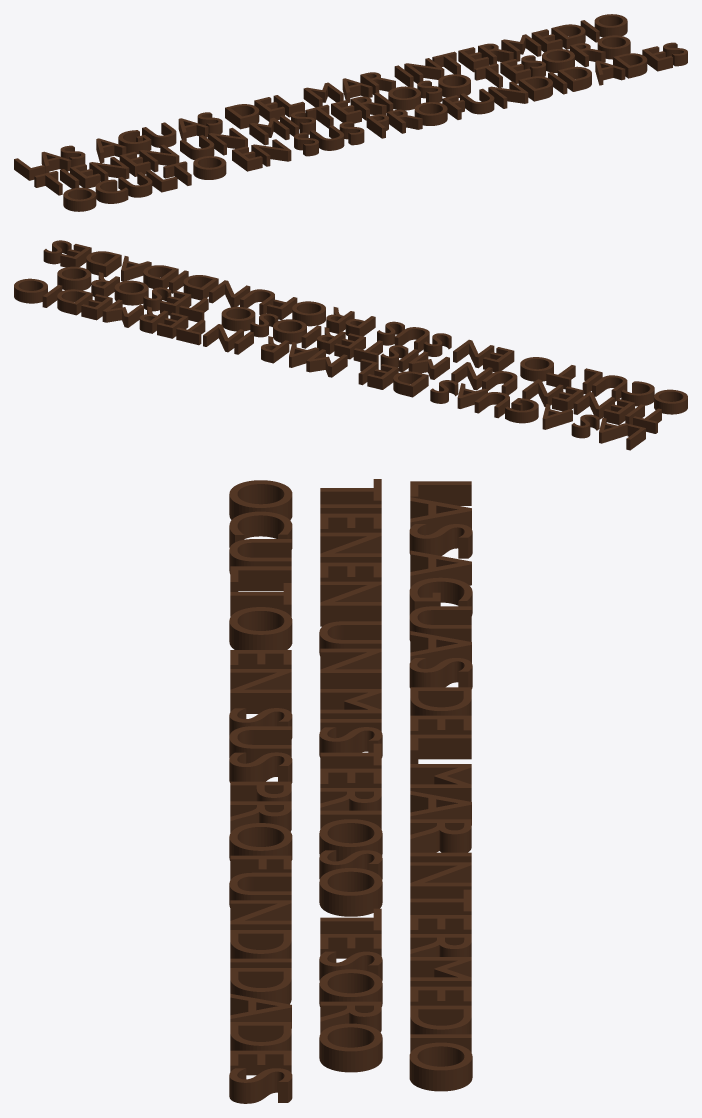
File: historia_map.glb
3 views of the same model, one above another, from view 1: azimuth 30°, elevation 25°; view 2: azimuth 150°, elevation 25°; view 3: azimuth 270°, elevation 25° (orthographic). The views are drawn at different scales.
Parts seen in each view (by area): view 1: Texto; view 2: Texto; view 3: Texto.
Part boxes in pixels (x1,y1,x2,y2): Texto: [14, 14, 687, 211]; Texto: [14, 240, 687, 450]; Texto: [229, 479, 472, 1103].
Bounding box in the file's own units: 15.87 × 0.2574 × 2.7.
